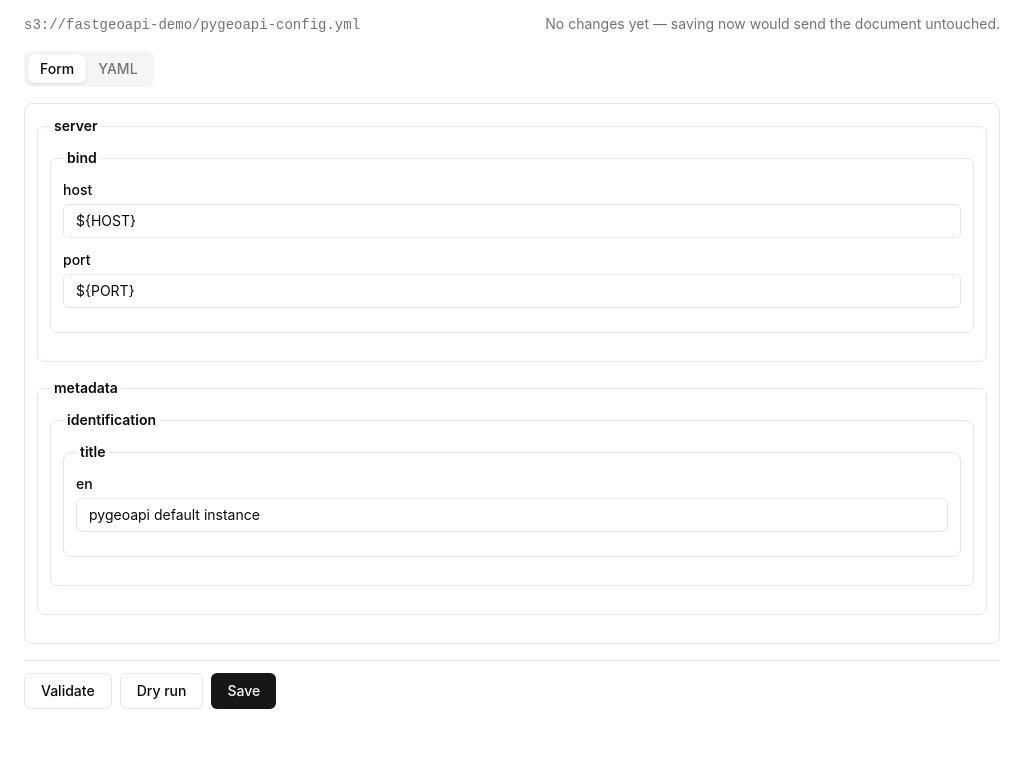
Test case: the page › says a save is not an activation
Check: the text "No changes yet" is shown, box [545,15,1000,32]
Click the button "Save": (244, 691) [211,673,276,709]
(page scrolled)
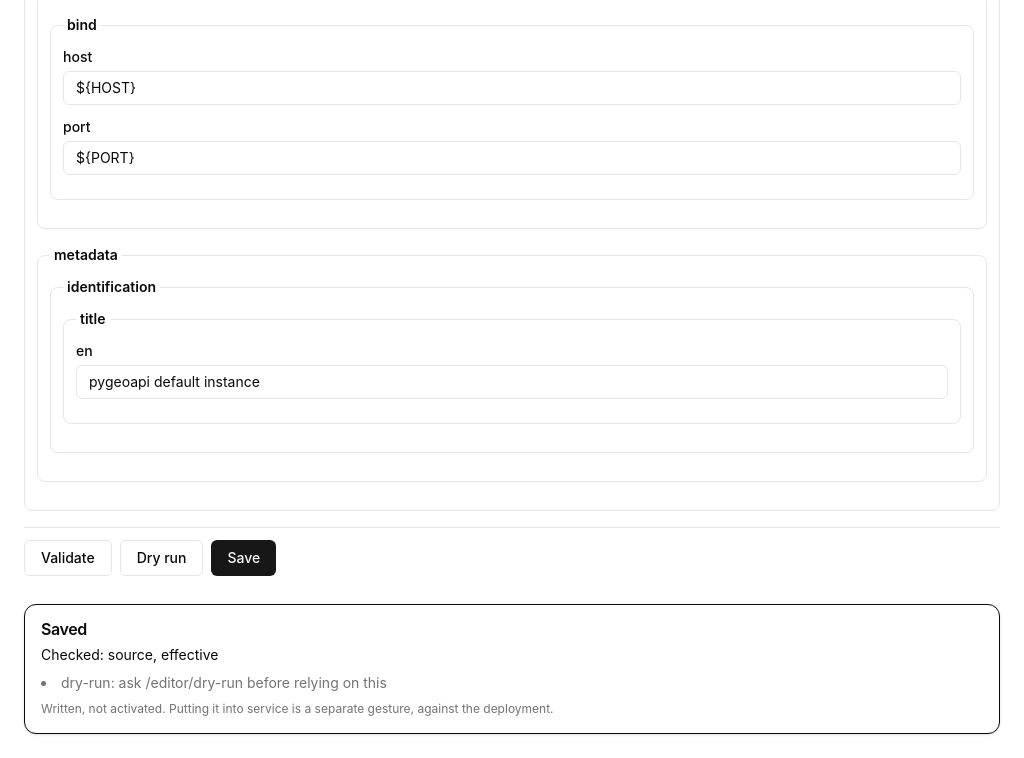
Check: the text "not activated" is shown, box [41,701,554,716]
